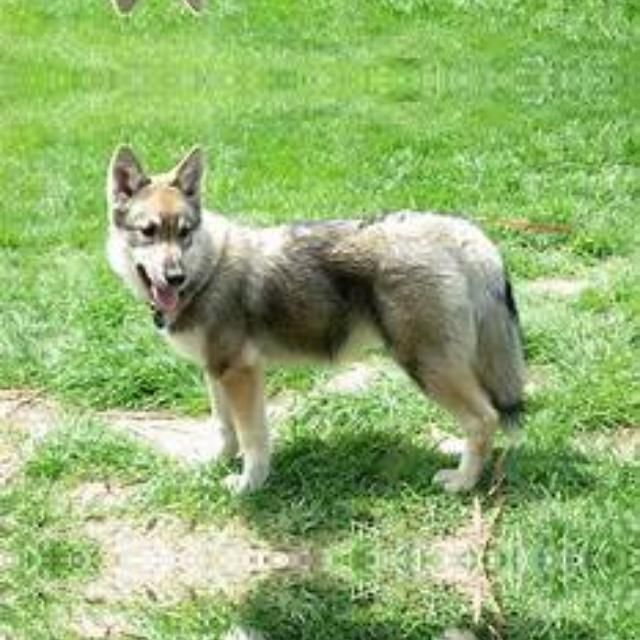dog: (96, 136, 610, 560), (96, 559, 609, 640), (96, 0, 609, 21)
